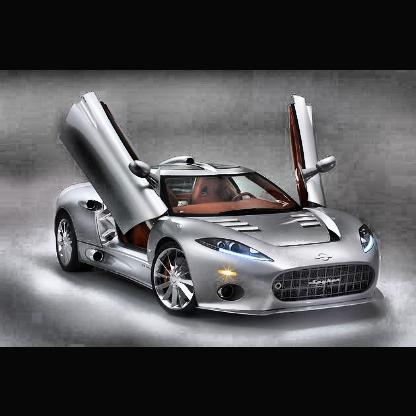Spyker C8 Coupe 2009: (52, 92, 386, 336)
